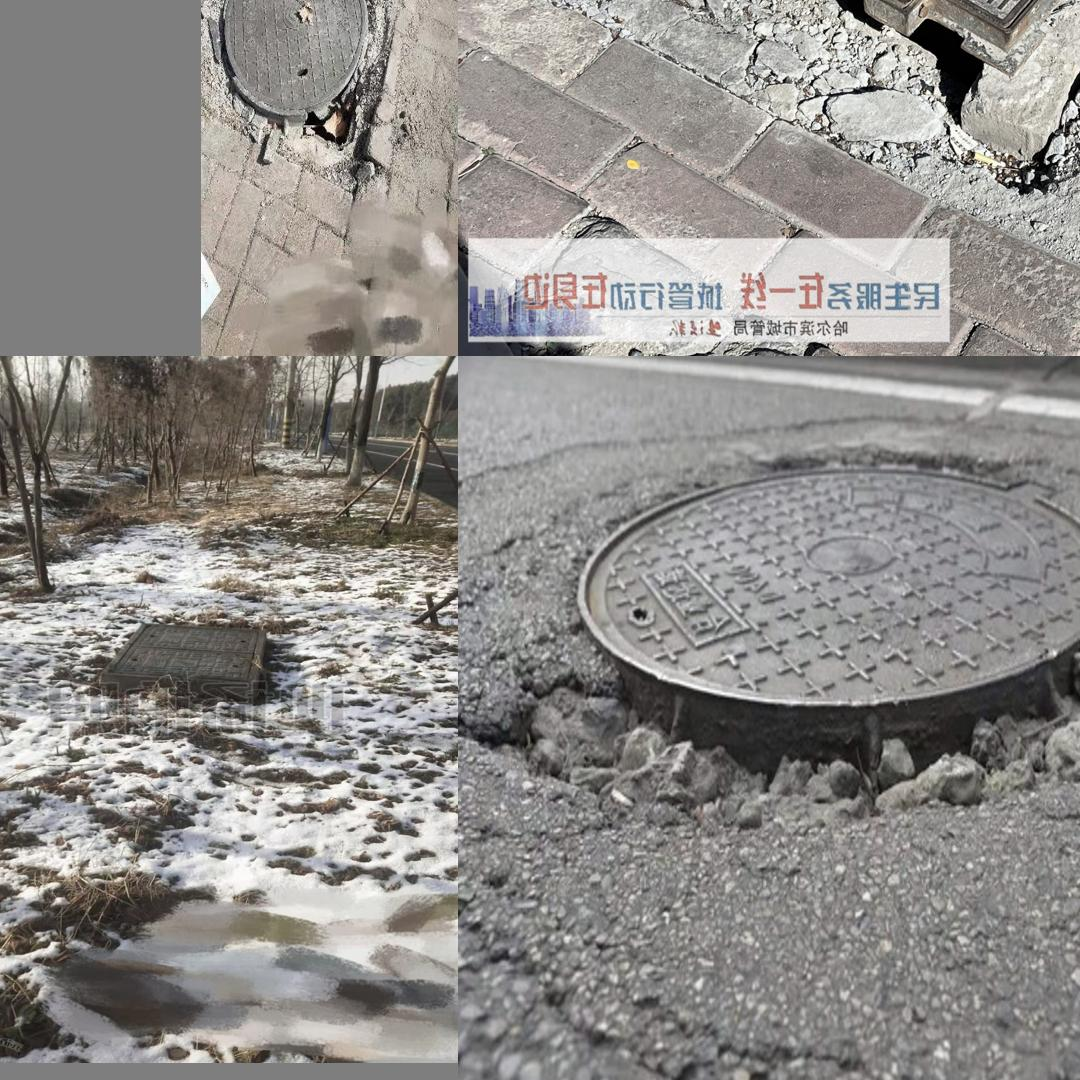circle: (469, 418, 1080, 912), (514, 0, 1080, 190), (201, 0, 393, 141), (88, 622, 274, 709)
